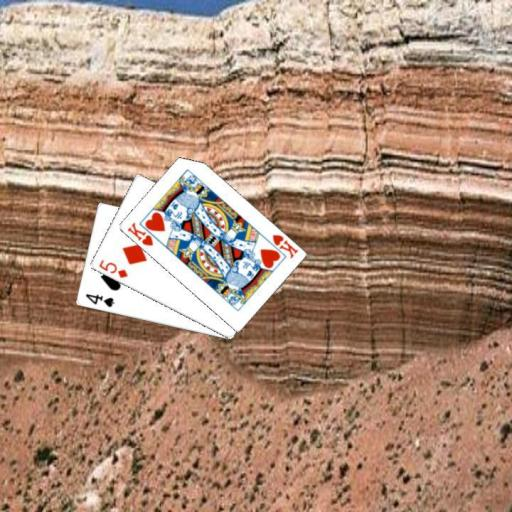4S: (83, 291, 115, 309)
5D: (95, 257, 129, 280)
KH: (269, 231, 299, 260), (124, 219, 154, 247)
